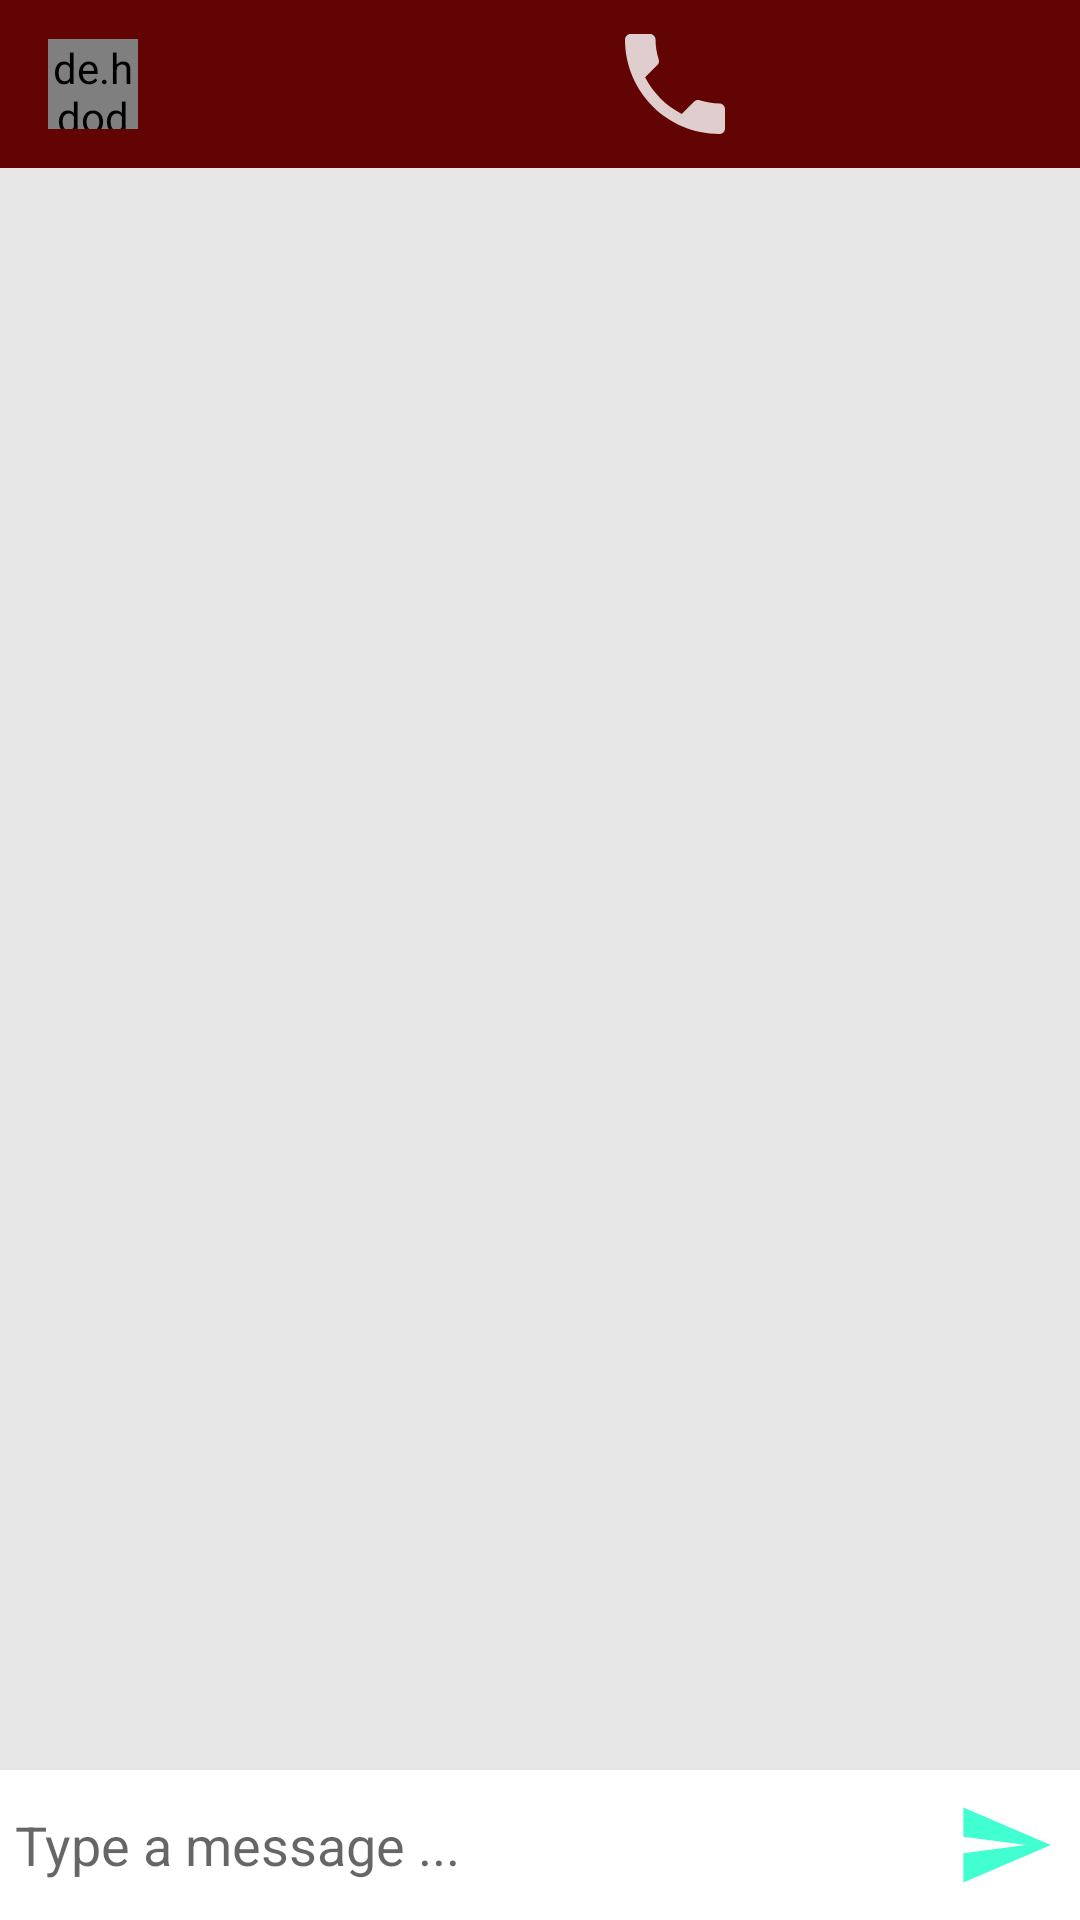

Named icons in this screenshot (1080px×1920px) and their bounding boxes, (x1, y1, x2, y2):
call: (625, 34, 725, 134)
